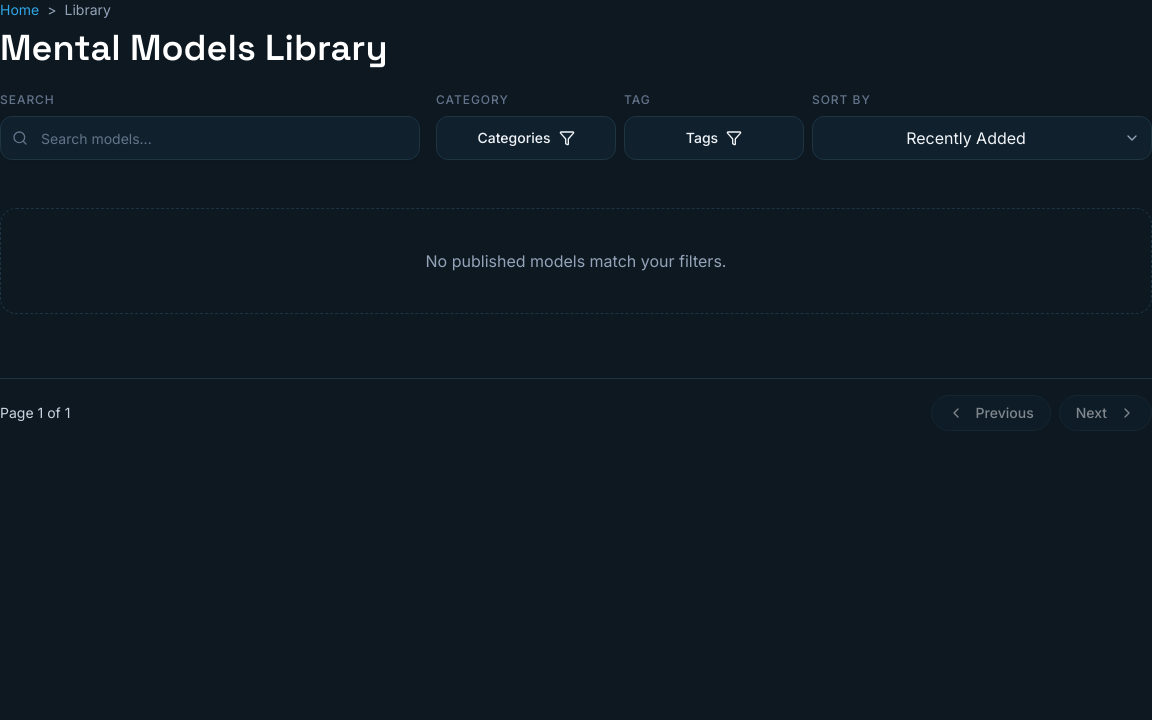
Test: LibraryClient category selection › enforces single-select in category modal and updates URL and title but keeps button label static
The width and height of the screenshot is (1152, 720).
Click the button "Categories": (526, 138) [436,116,616,160]
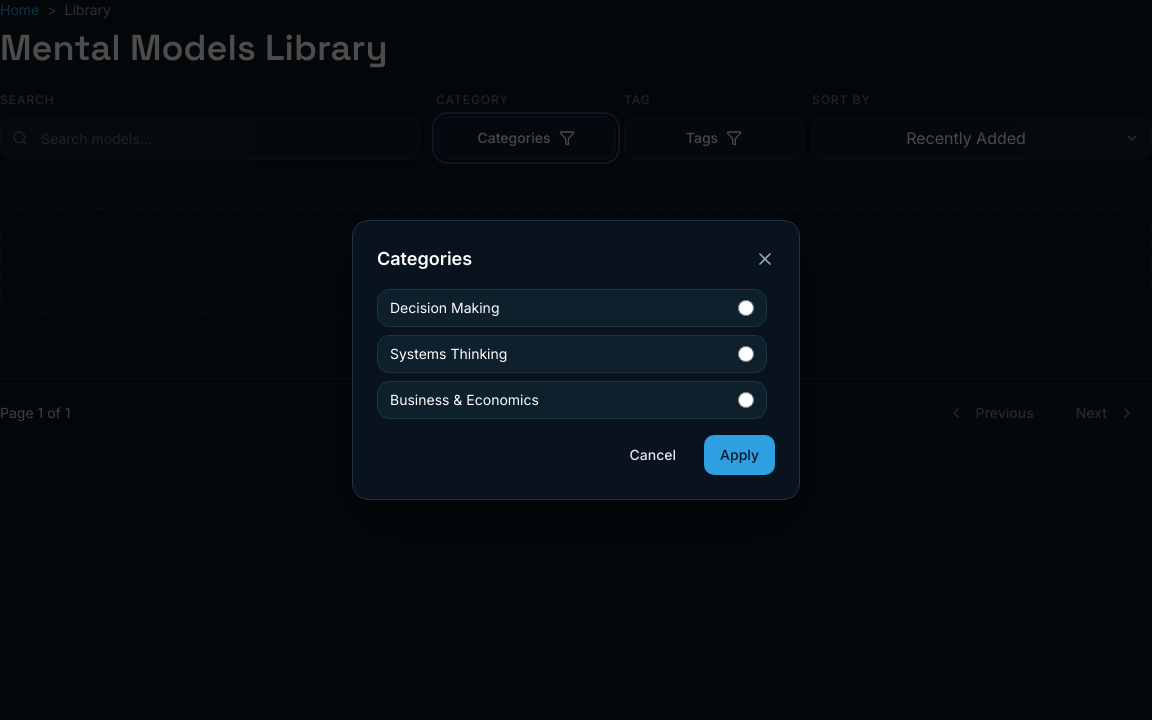
Click the radio button labelled "Decision Making": (746, 308) [738,300,754,316]
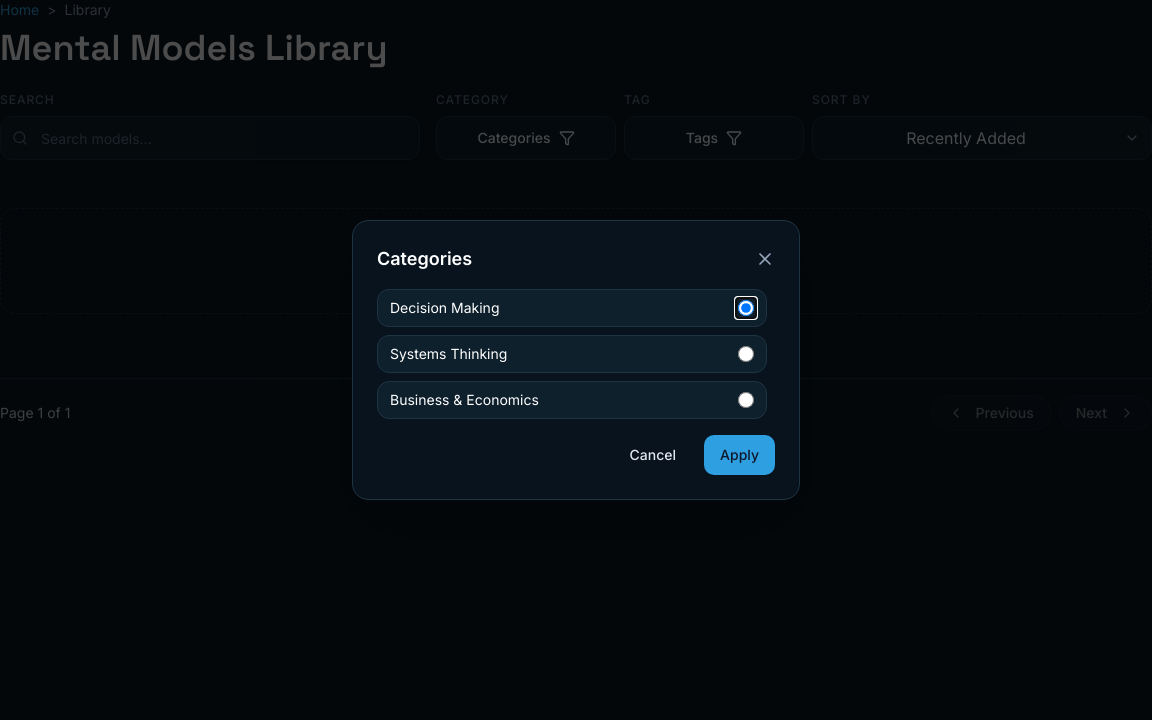
Expected: the radio button labelled "Decision Making" is checked, [738,300,754,316]
Click the radio button labelled "Systems Thinking": (746, 354) [738,346,754,362]
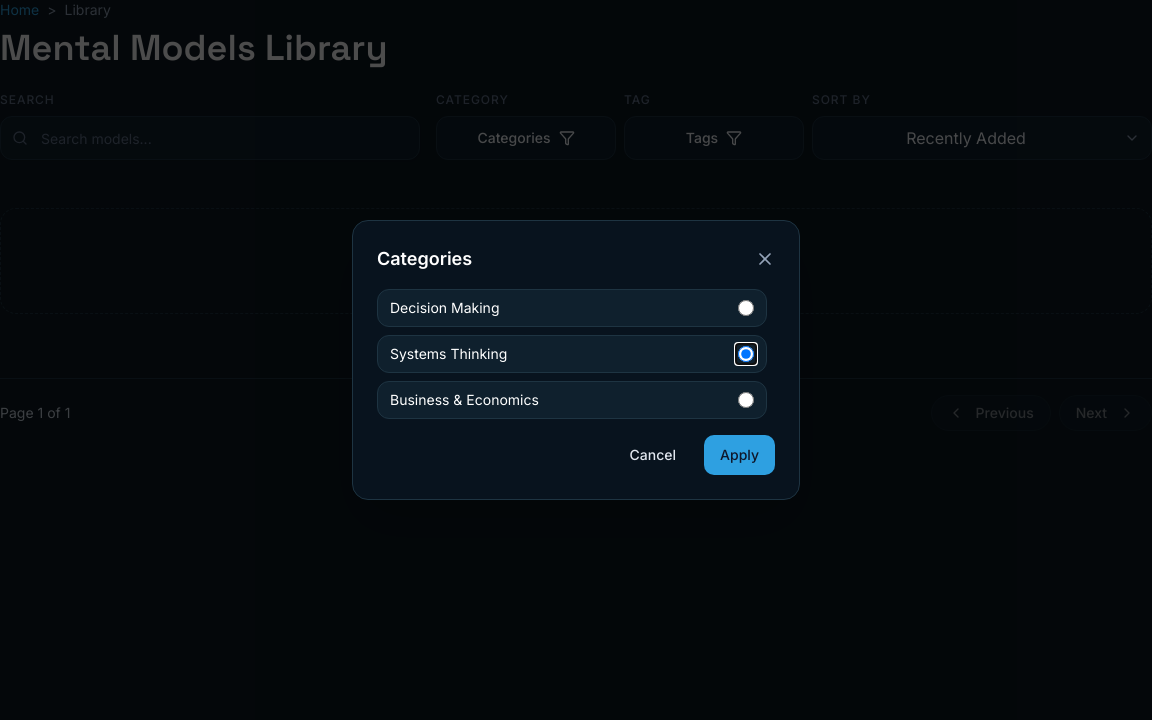
Expected: the radio button labelled "Systems Thinking" is checked, [738,346,754,362]
Expected: the radio button labelled "Decision Making" is not checked, [738,300,754,316]
Click the button "Apply": (740, 455) [704,435,775,475]
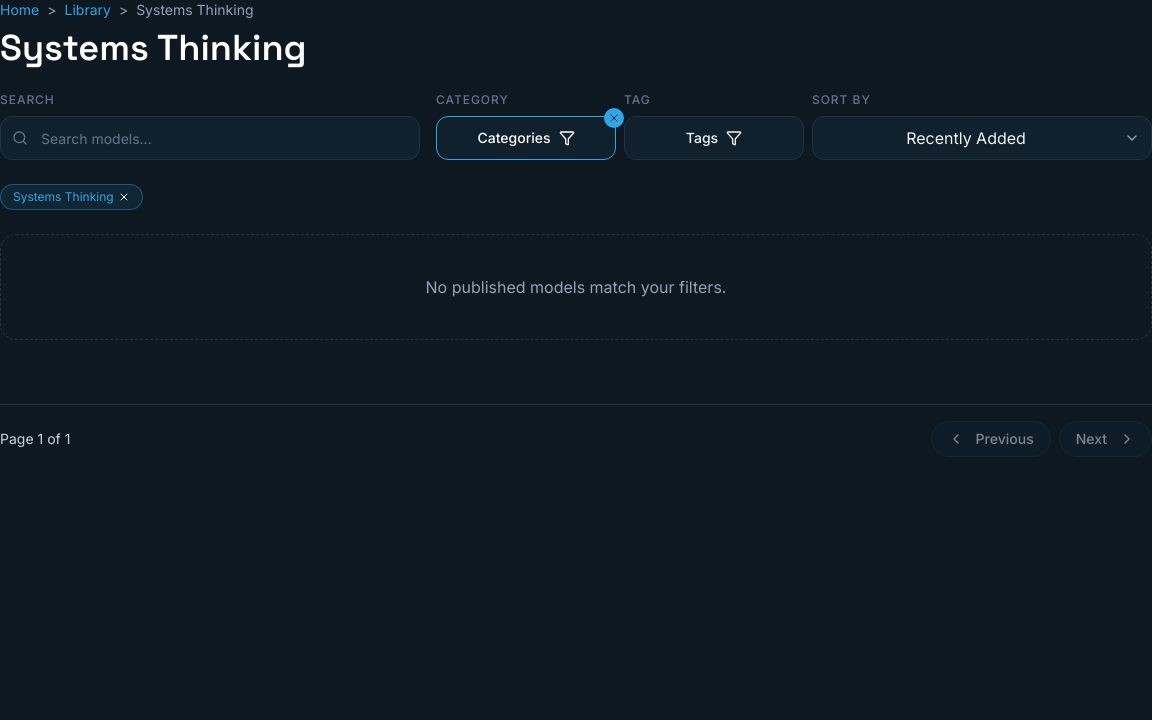
Expected: the button "Categories" is shown, [436,116,616,160]
Expected: the heading "Systems Thinking" is shown, [0,25,307,71]
